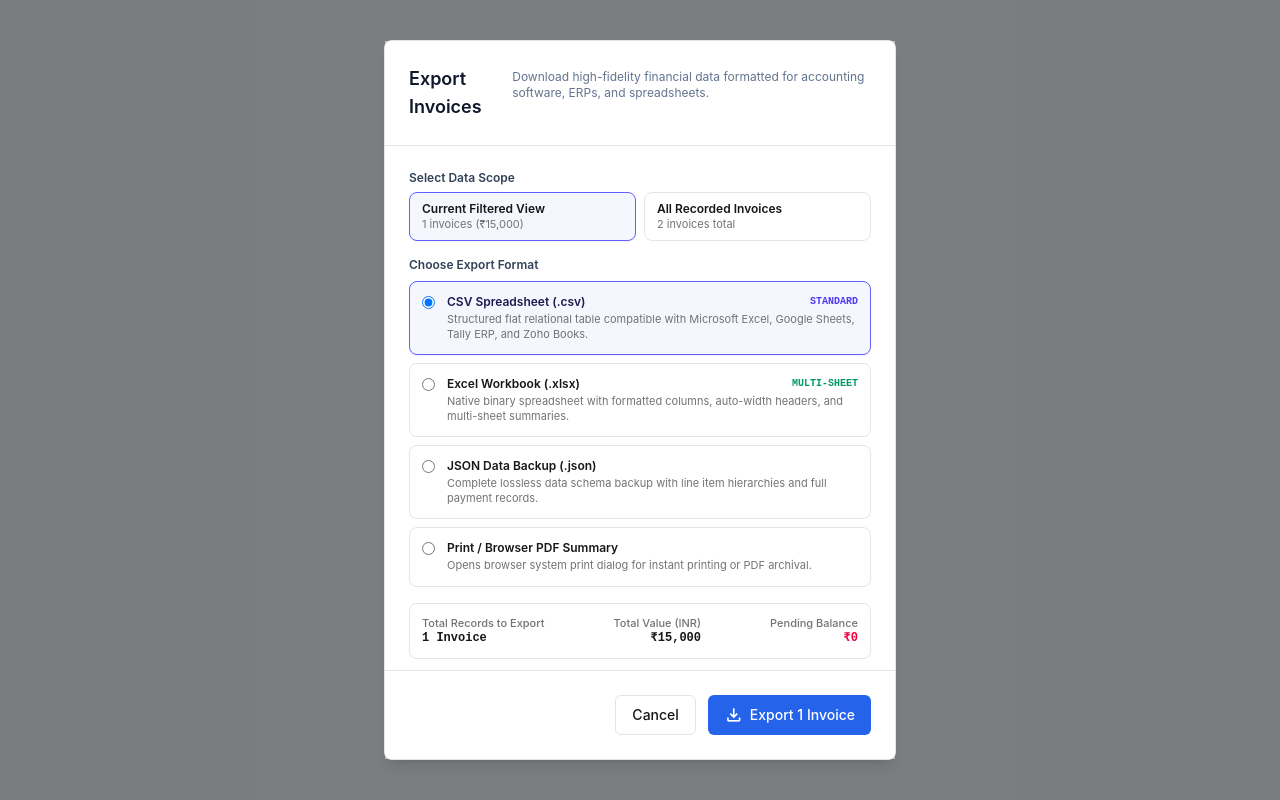
Test: ExportModal Component › switches to all recorded invoices when All Recorded Invoices is selected
The width and height of the screenshot is (1280, 800).
Expected: the text "1 Invoice" is shown, [422, 631, 487, 645]
Click the button "All Recorded Invoices 2 invoices total".
click(758, 216)  # box [644, 192, 871, 241]
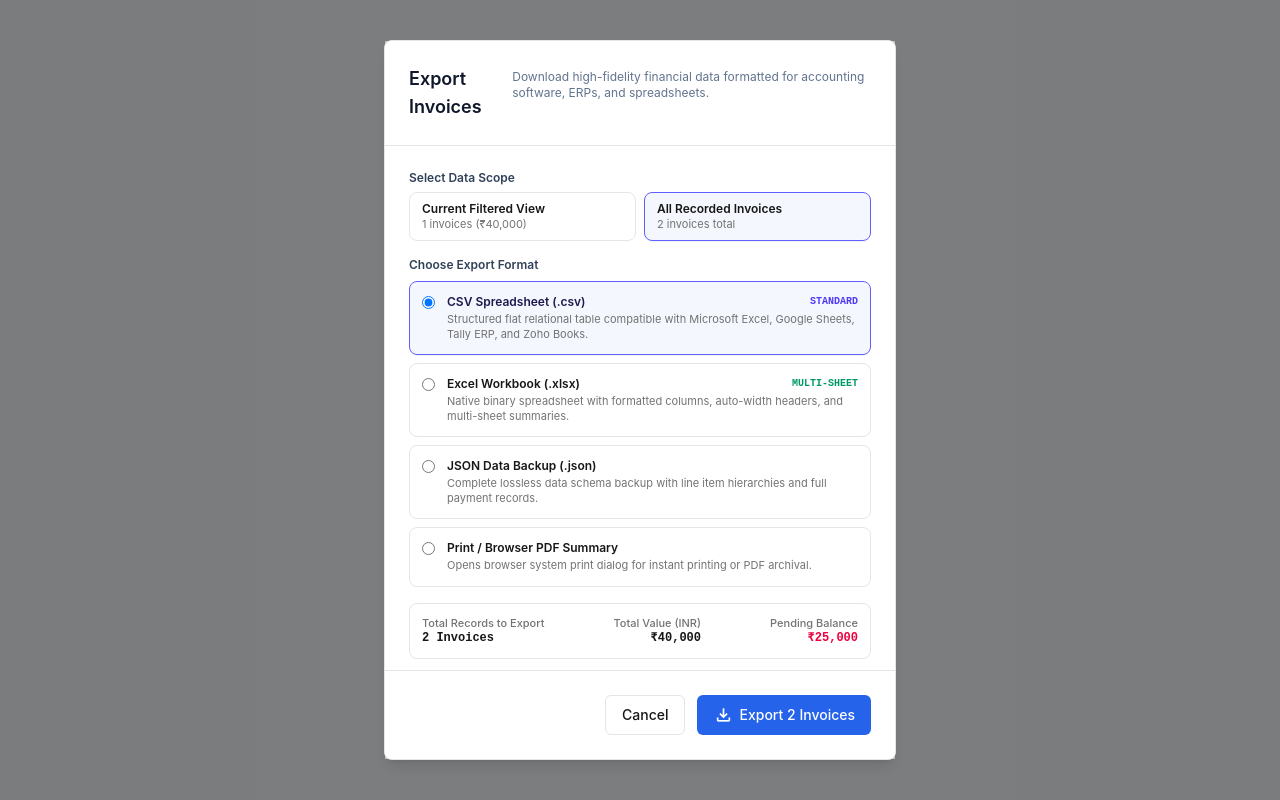
Expected: the text "2 Invoices" is shown, [422, 631, 494, 645]
Expected: the button "Export 2 Invoices" is shown, [698, 695, 871, 735]
Expected: the text "₹40,000" is shown, [651, 631, 701, 645]
